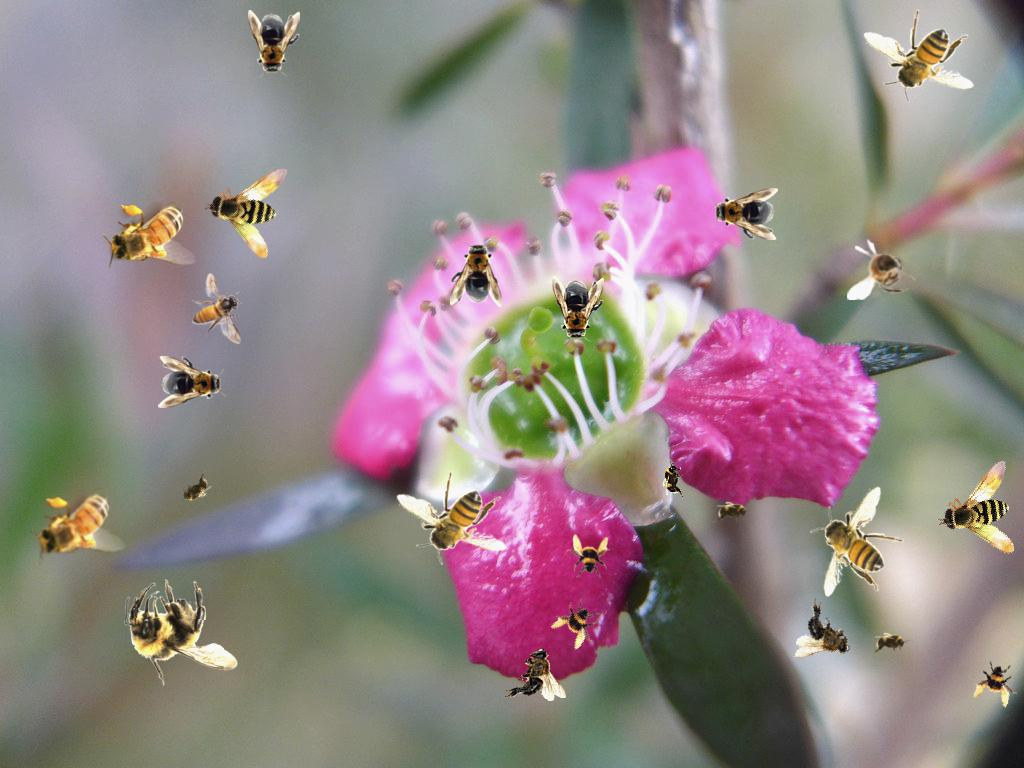Bee: (200, 146, 322, 266), (122, 578, 241, 689), (935, 445, 1024, 563), (863, 9, 974, 103), (810, 486, 904, 597), (396, 471, 507, 565), (27, 486, 127, 565), (103, 201, 196, 269), (791, 597, 862, 673), (847, 239, 917, 300), (547, 593, 609, 655), (192, 273, 242, 344), (248, 10, 300, 78), (552, 276, 604, 344), (710, 188, 778, 240), (450, 239, 502, 307), (158, 356, 226, 408), (504, 648, 566, 701), (970, 656, 1024, 710), (566, 534, 610, 578), (172, 469, 218, 511), (871, 632, 911, 654), (662, 459, 684, 499), (713, 501, 753, 523)
